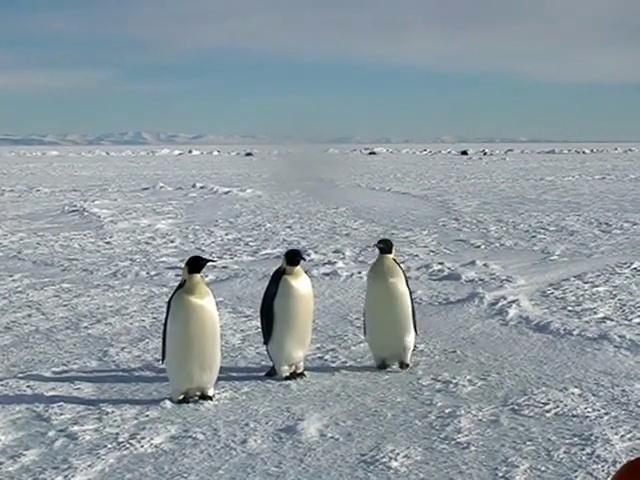animal: (365, 240, 419, 370)
